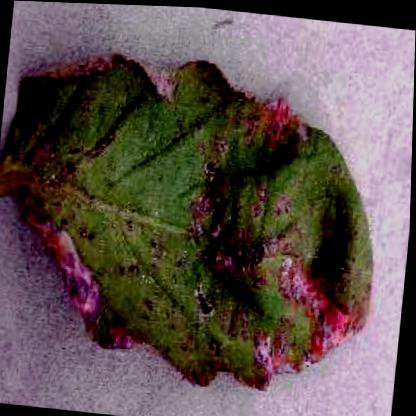BACTERIAL SPOT: (0, 20, 407, 412)
